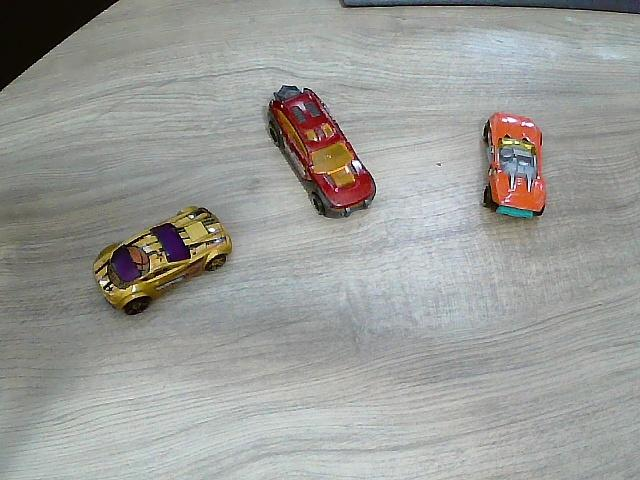Carro: (93, 207, 232, 317), (267, 85, 380, 220), (486, 114, 547, 220)
